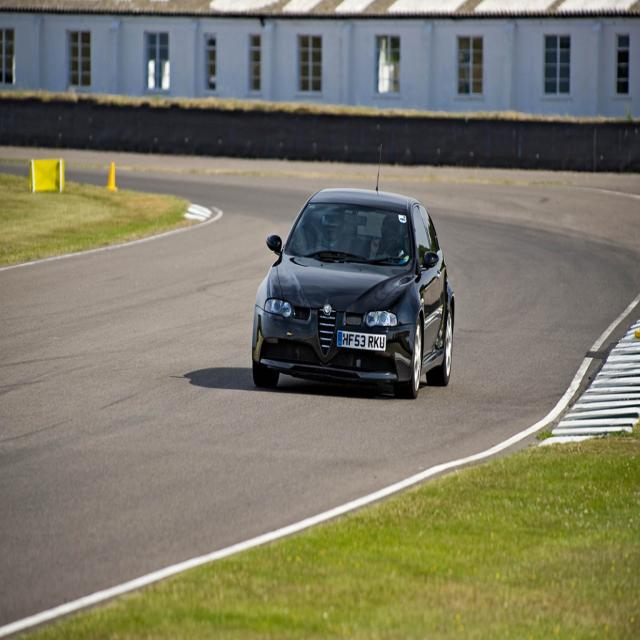car: (246, 183, 458, 403)
